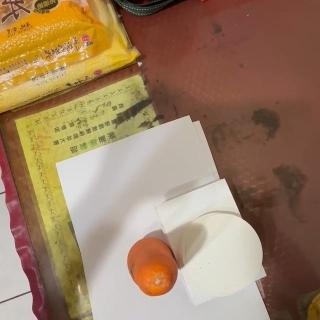carrot: (126, 238, 176, 296)
